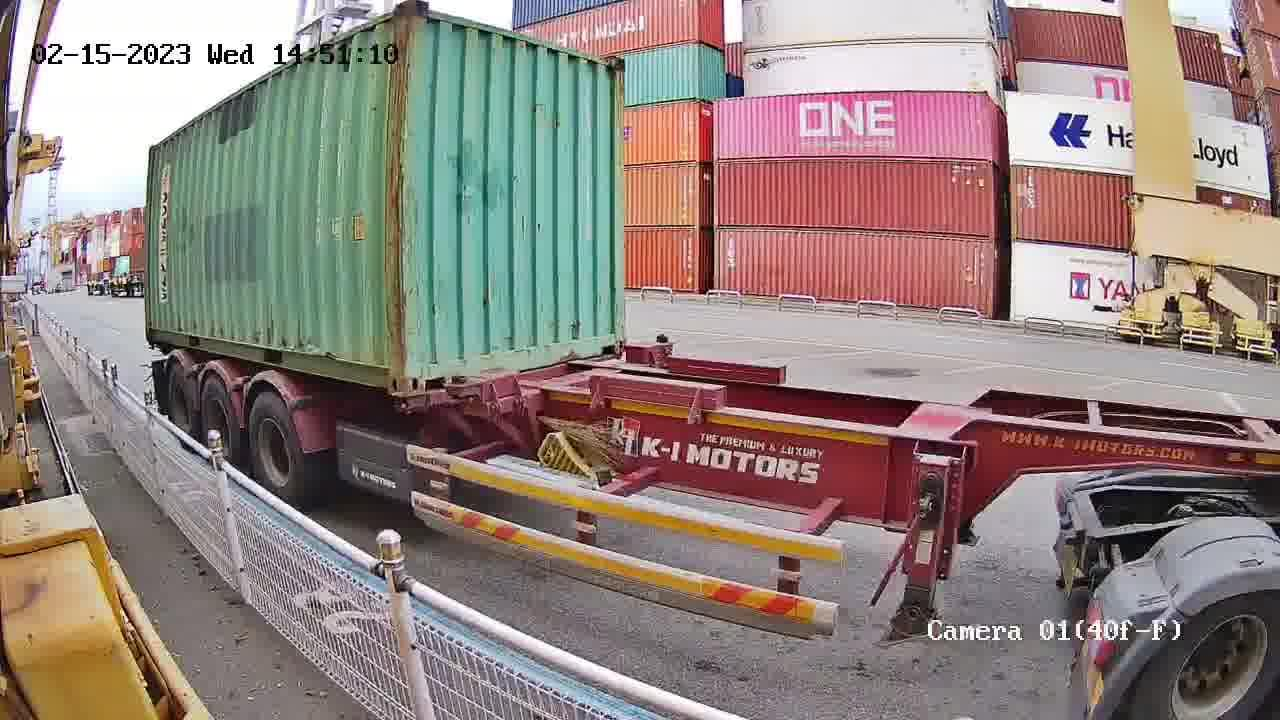Chassis: (410, 351, 627, 411)
Cone: (392, 397, 410, 414)
Hole_L: (406, 347, 444, 394)
Hole_R: (370, 353, 408, 395)
Tire: (1146, 597, 1279, 719), (248, 396, 302, 497), (199, 378, 238, 453), (164, 364, 195, 428)
